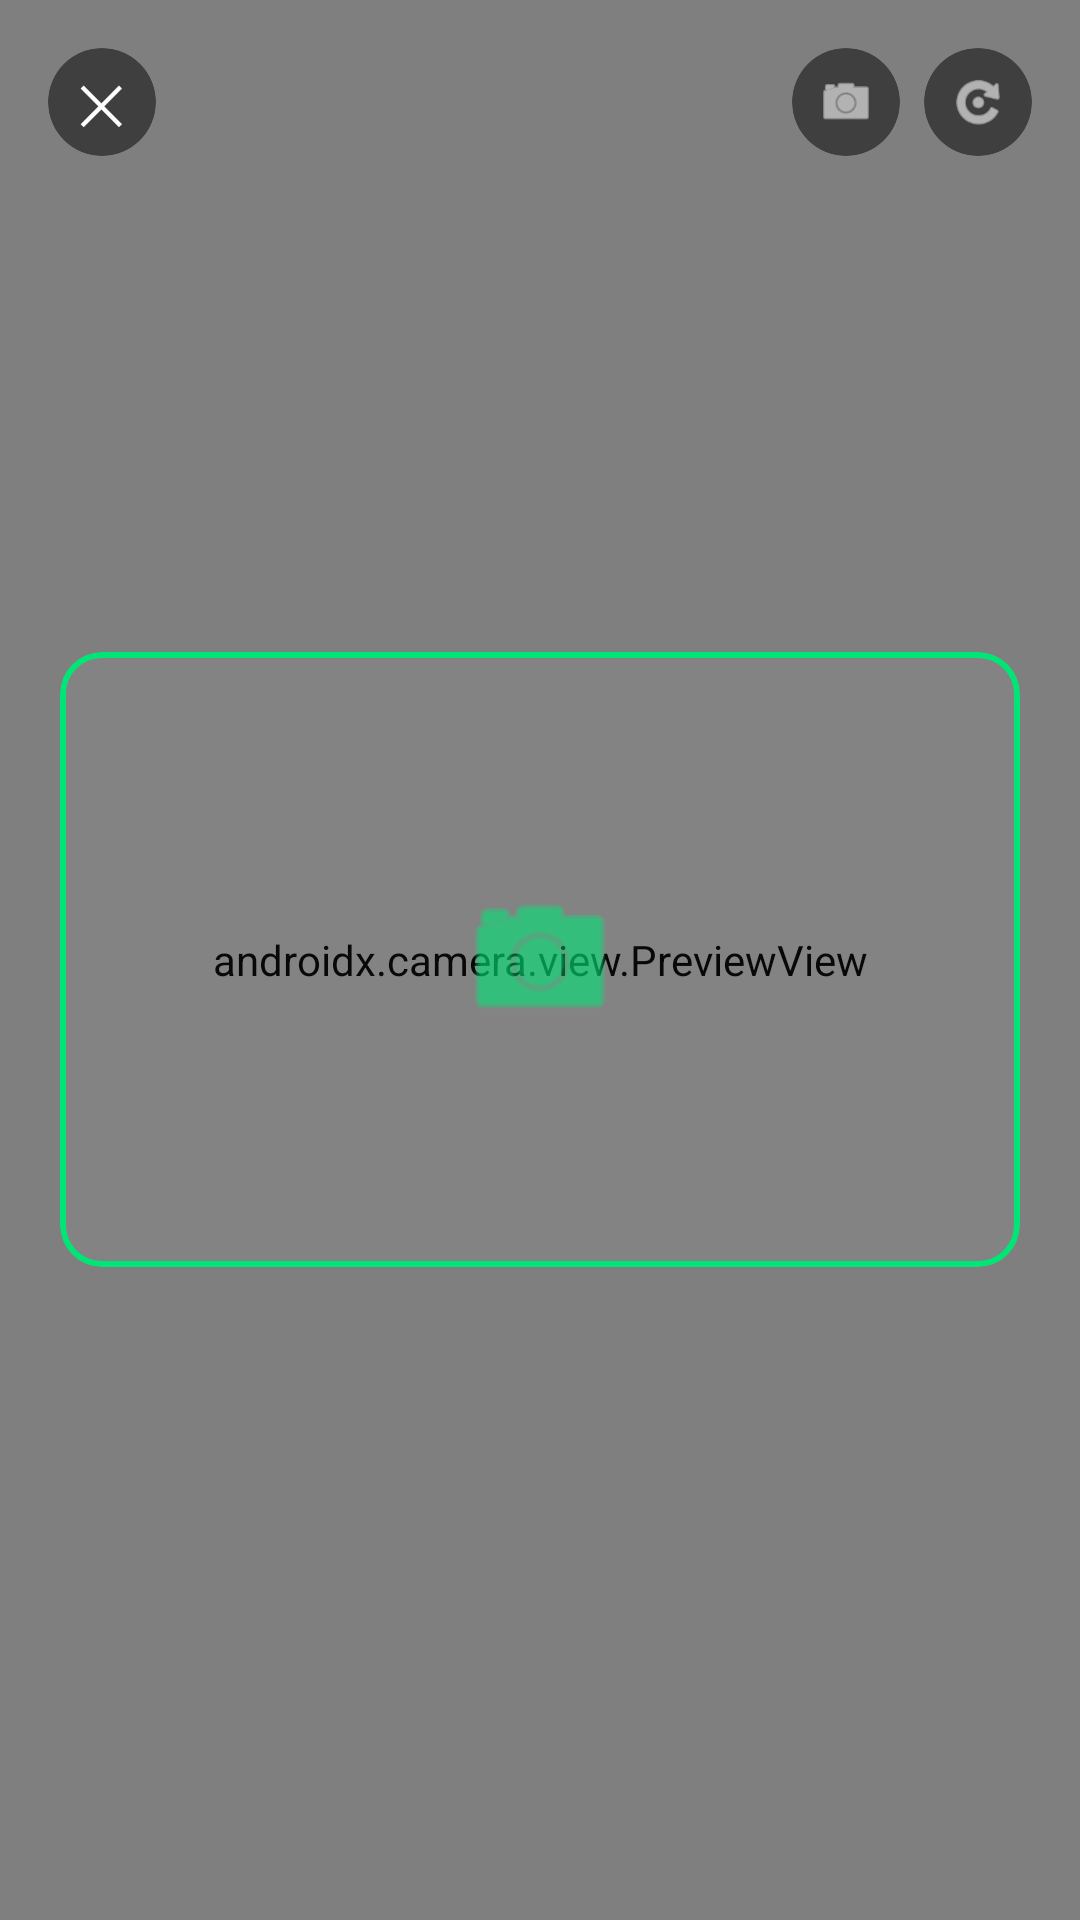

Screen size 1080px x 1920px. Icon name, then its center in pixels as (x=x, y=y):
rotate: (x=978, y=102)
